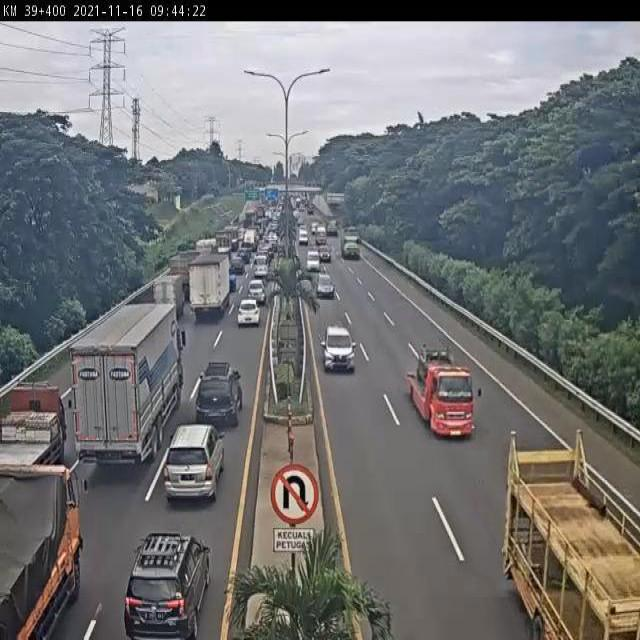car: (127, 530, 205, 634), (158, 434, 220, 514), (195, 368, 242, 432), (327, 325, 355, 368), (237, 303, 260, 328), (247, 283, 266, 305), (316, 272, 332, 297), (254, 255, 269, 277), (319, 242, 331, 262), (306, 252, 319, 269), (231, 257, 243, 271), (299, 228, 308, 244)
small truck: (499, 425, 640, 639), (414, 348, 472, 443), (152, 278, 179, 318), (243, 229, 258, 251), (325, 218, 340, 238), (315, 225, 328, 244)
truck-l-: (72, 302, 187, 474), (341, 231, 359, 260)
truck-m-: (0, 461, 88, 640), (0, 381, 69, 471), (188, 252, 232, 324)
